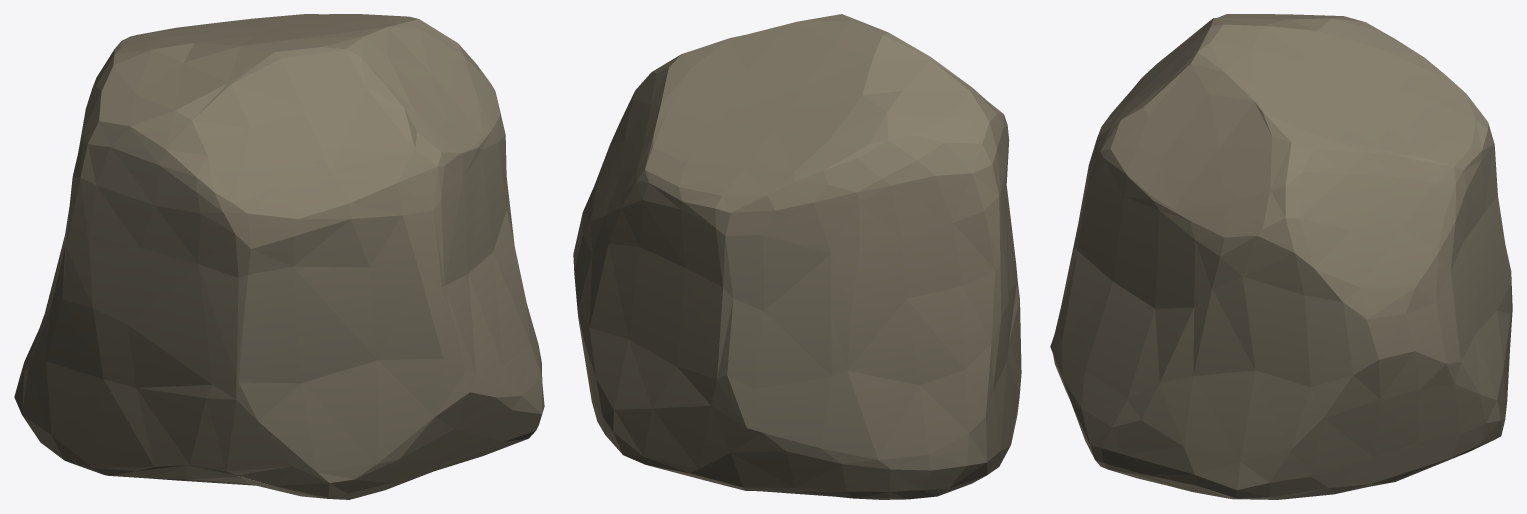
Rendered from rock-a.glb.
3 views of the same model, side by side, from view 1: azimuth 30°, elevation 25°; view 2: azimuth 150°, elevation 25°; view 3: azimuth 270°, elevation 25° (orthographic). The views are drawn at different scales.
Size of the model in its own units: 0.6881 by 0.5872 by 0.6574.
